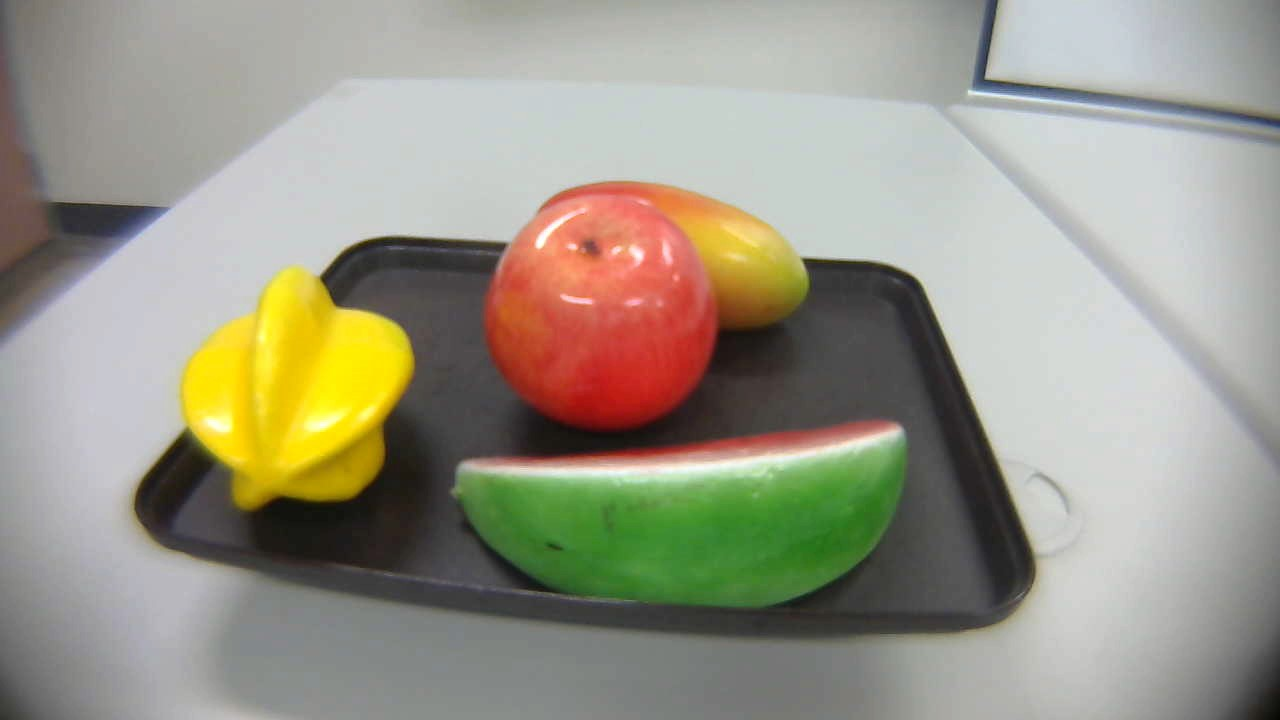red apple: (487, 193, 720, 438)
red mango: (528, 174, 820, 348)
star fruit: (180, 264, 418, 509)
water melon: (437, 411, 922, 628)
